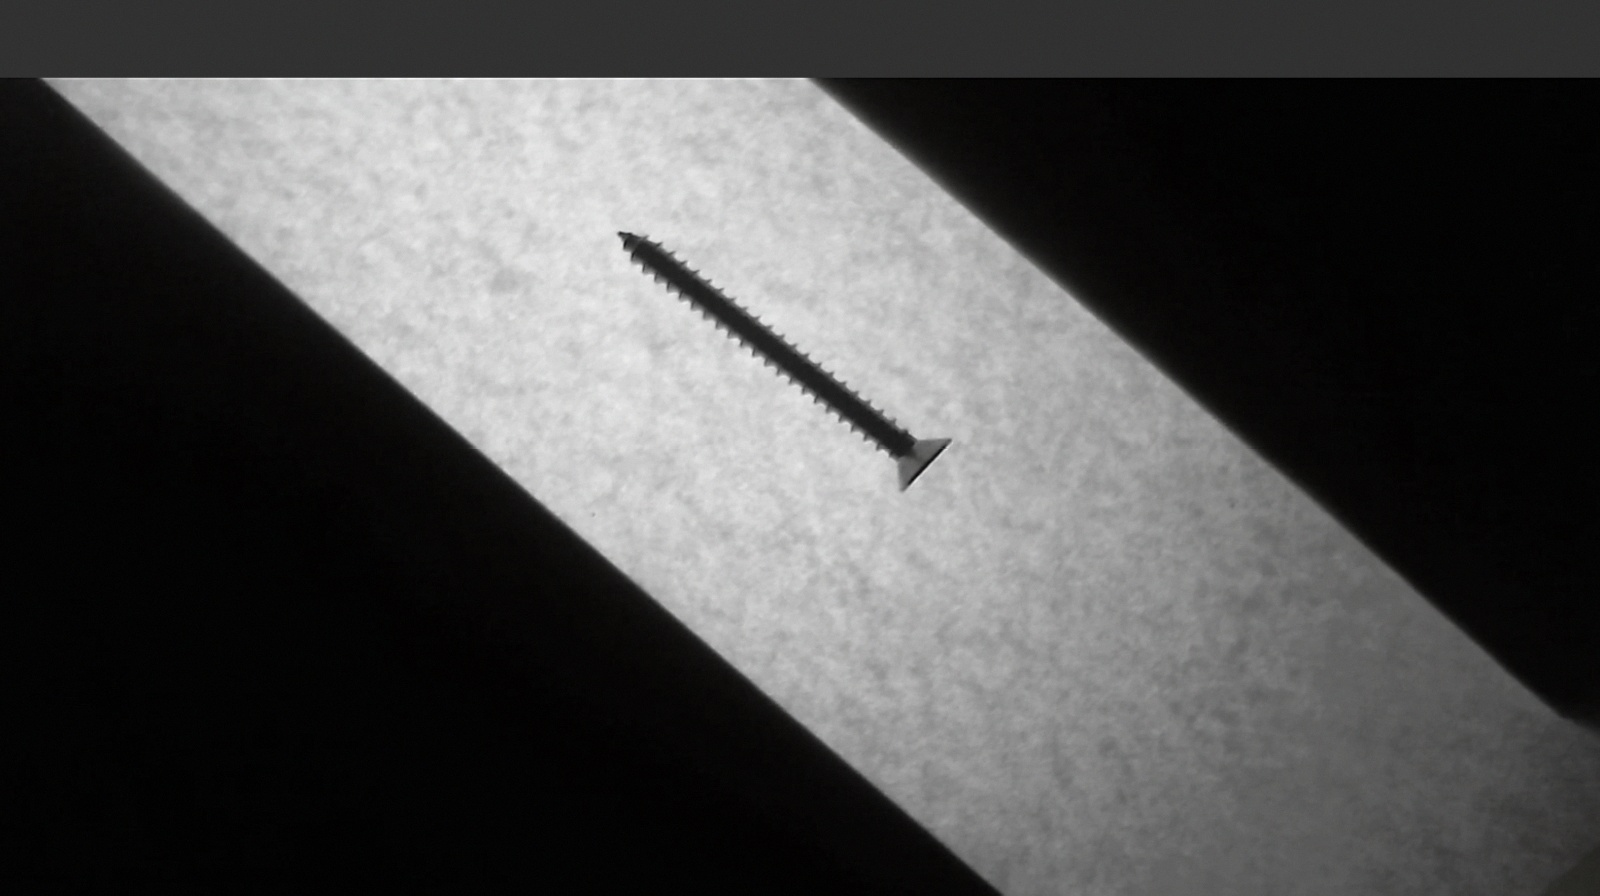S002: (597, 206, 968, 502)
